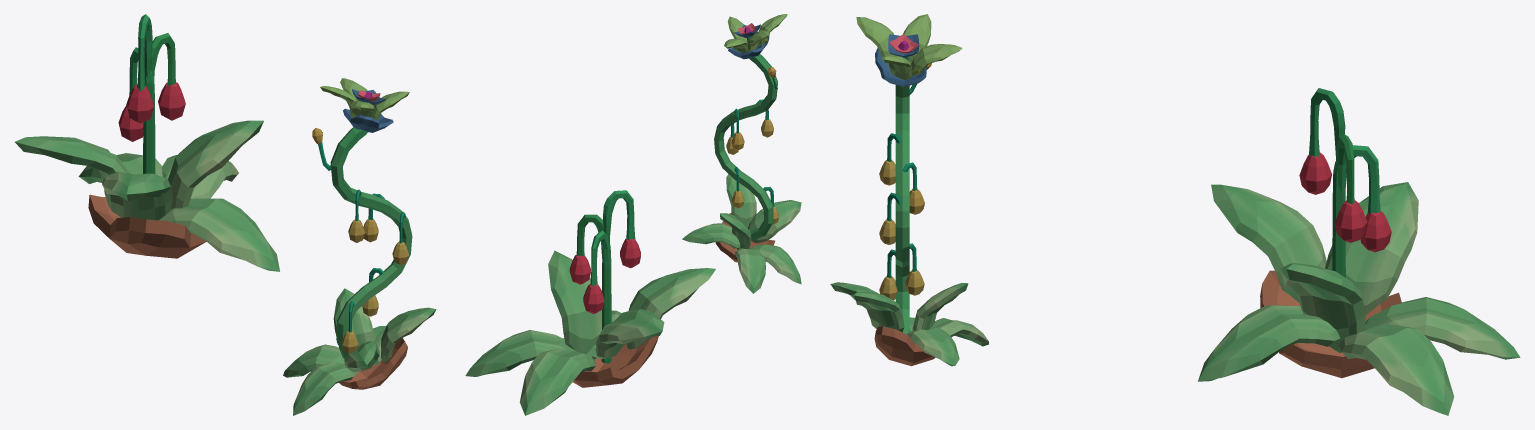
The model's file is Planta.fbx.
The picture shows the model from 3 angles, left to right: view 1: azimuth 30°, elevation 25°; view 2: azimuth 150°, elevation 25°; view 3: azimuth 270°, elevation 25°; orthographic projection. The views are drawn at different scales.
Visible parts, largest first — view 1: Plantas; view 2: Plantas; view 3: Plantas.
Part boxes in pixels (x1,y1,x2,y2): Plantas: (15,14,436,415); Plantas: (465,14,801,415); Plantas: (830,14,1520,415).
Bounding box in the file's own units: 862 × 1119 × 2024.
